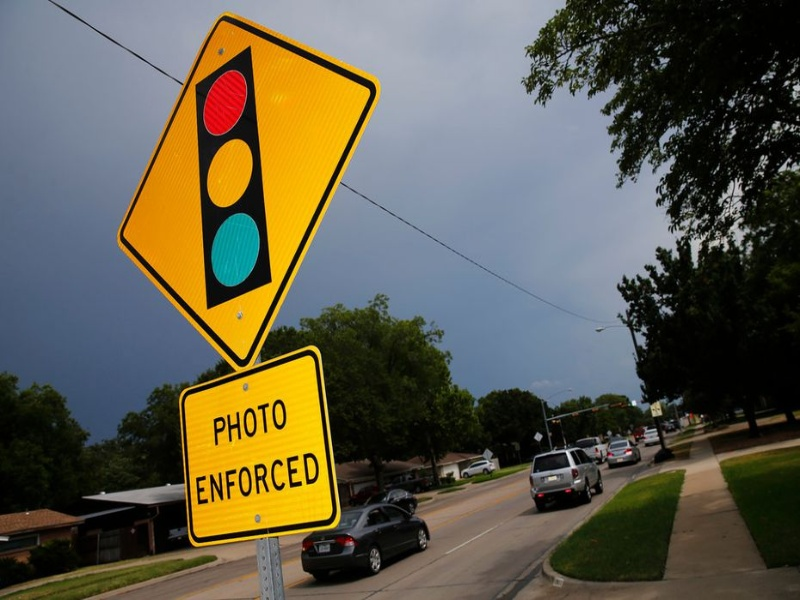traffic signal sign: (112, 11, 383, 373)
